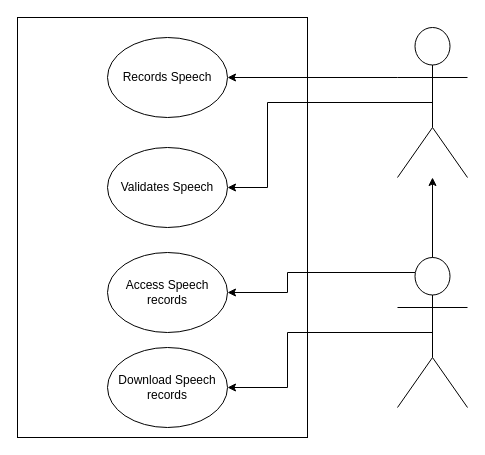
Some shapes in this 485 by 455 pixel diagram are drawn without their labels. The shapes that lost their labels are listed below. From the top down, each one's box as (x1, y1, x2, y2) in pixels, then its label:
(396, 26, 468, 178): User
(396, 256, 468, 408): Admin
